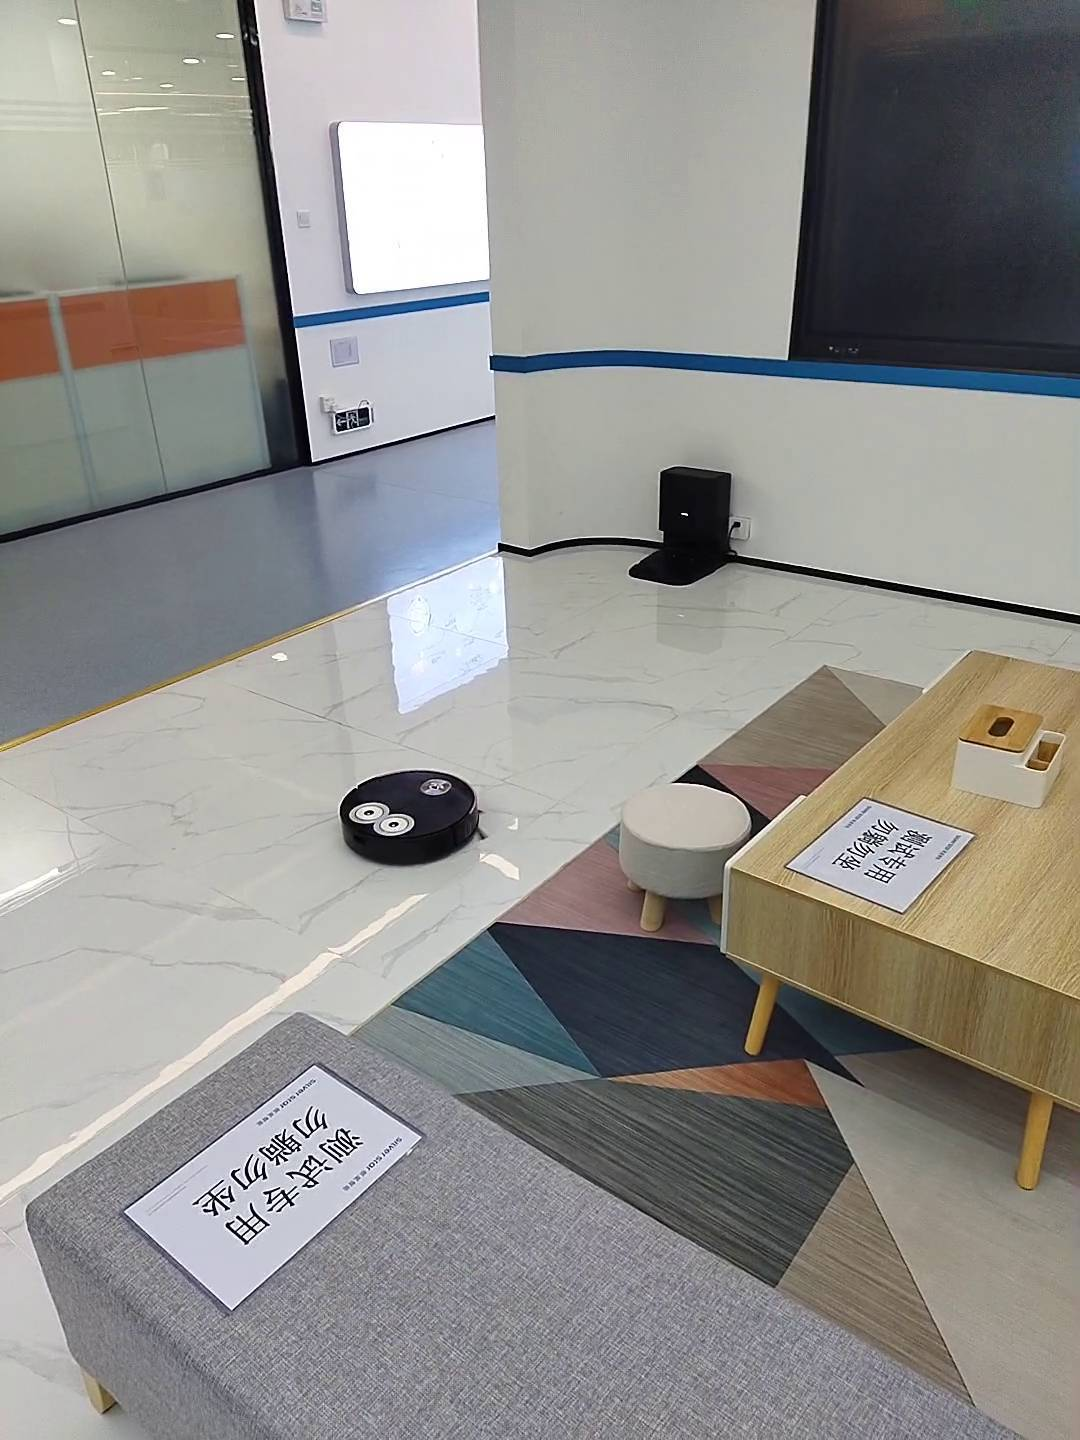dust collecting barrel: (628, 466, 736, 586)
